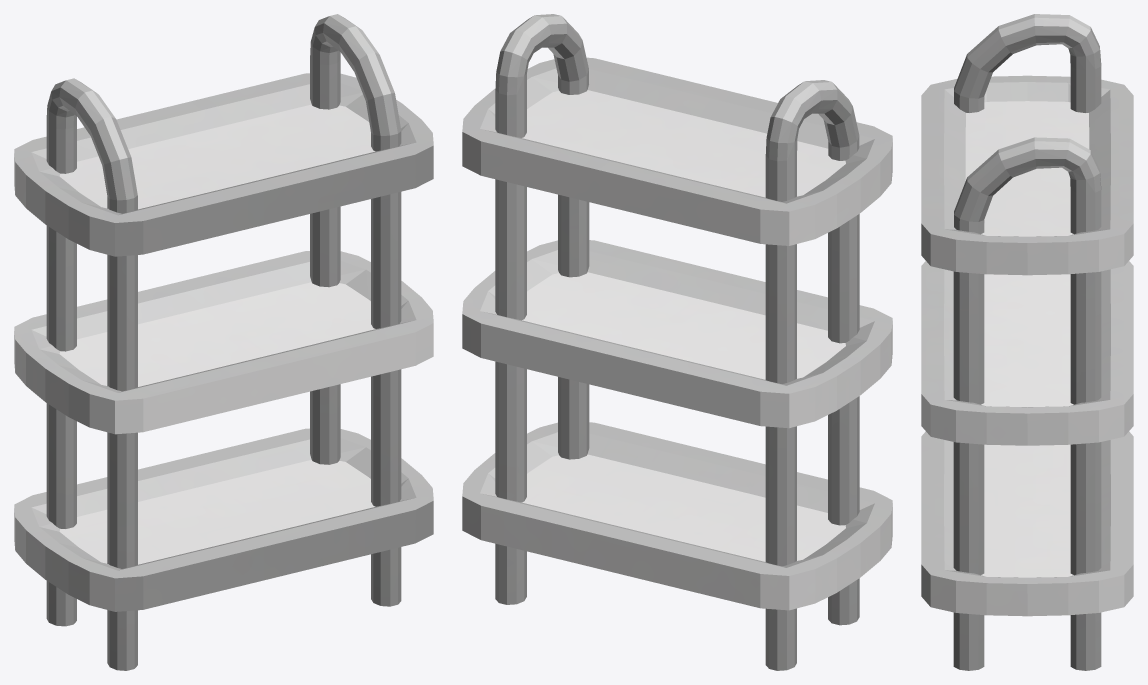
File: tray_1.dae
The picture shows the model from 3 angles, left to right: view 1: azimuth 30°, elevation 25°; view 2: azimuth 150°, elevation 25°; view 3: azimuth 270°, elevation 25°; orthographic projection. The views are drawn at different scales.
Parts seen in each view (by area): view 1: tray_1; view 2: tray_1; view 3: tray_1.
Boxes of the visible parts, x1,y1,x2,y2 form: tray_1: (14, 14, 433, 670); tray_1: (462, 14, 892, 670); tray_1: (921, 14, 1133, 670).
Bounding box in the file's own units: 0.3878 × 0.2082 × 0.5681.
